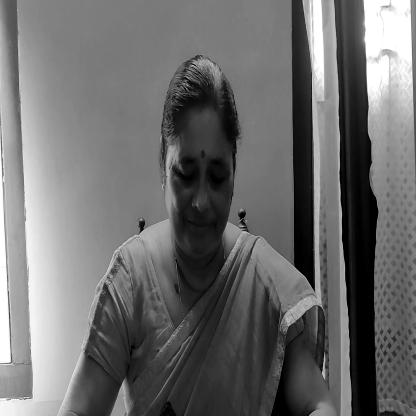Normal: (150, 51, 247, 263)
